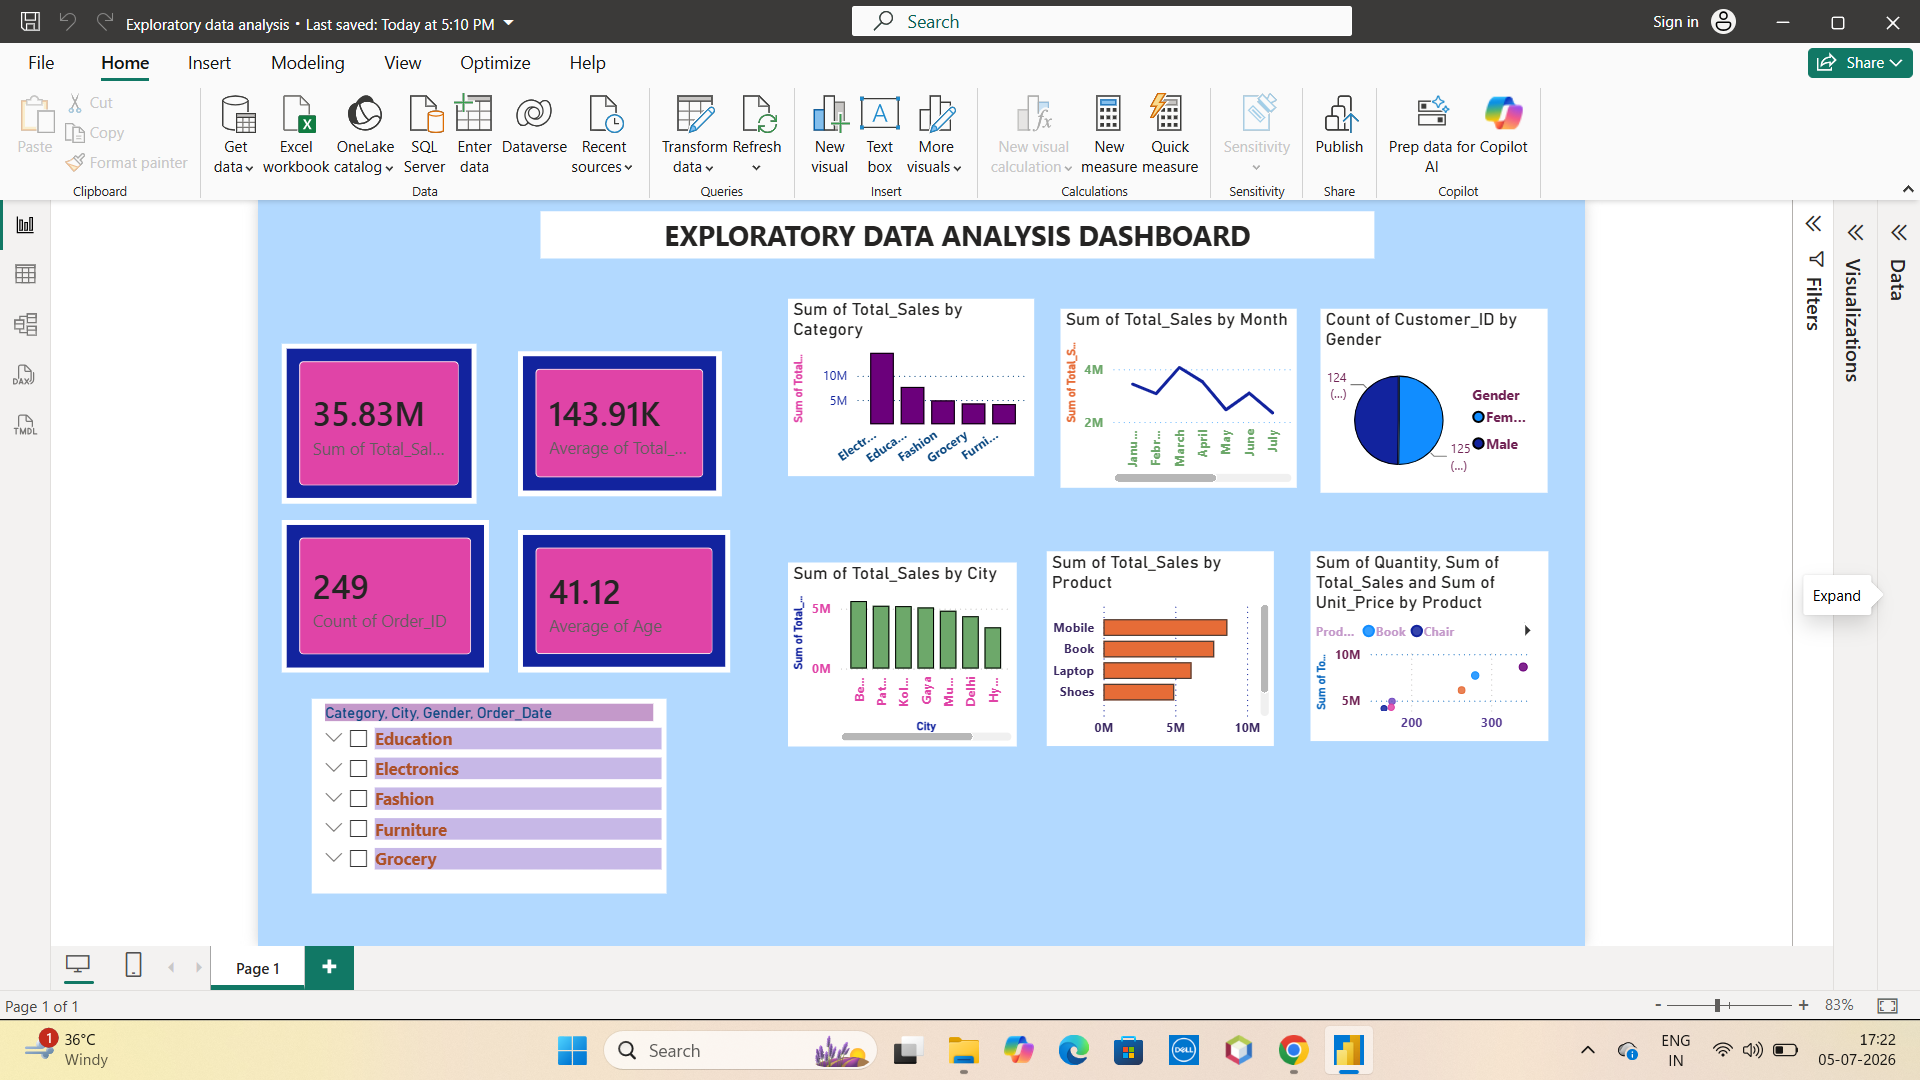

Layout of this report page (visuals, bound fields, positions):
{"tool":"powerbi","page":{"name":"Page 1","canvas":[1280,720],"ordinal":0},"visuals":[{"type":"cardVisual","fields":{"Data":["Sum(Sales_Dataset.Total_Sales)"]},"box":[106.4,102.7,183.4,150.4],"z":0},{"type":"cardVisual","fields":{"Data":["Sales_Dataset.Total orders"]},"box":[371.7,102.7,204.2,159],"z":1000},{"type":"cardVisual","fields":{"Data":["Sales_Dataset.average sales"]},"box":[676.2,102.7,206.7,159],"z":2000},{"type":"cardVisual","fields":{"Data":["Sales_Dataset.total quantity"]},"box":[975.6,100.2,205.8,150.9],"z":3000},{"type":"clusteredColumnChart","fields":{"Category":["Sales_Dataset.Category"],"Y":["Sum(Sales_Dataset.Total_Sales)"]},"box":[87.8,502.2,203.1,185.2],"z":4000},{"type":"barChart","fields":{"Category":["Sales_Dataset.City"],"Y":["Sum(Sales_Dataset.Total_Sales)"]},"box":[371.9,502.2,223.7,185.2],"z":5000},{"type":"lineChart","fields":{"Category":["Sales_Dataset.Order_Date.Variation.Date Hierarchy.Month"],"Y":["Sum(Sales_Dataset.Total_Sales)"]},"box":[676.5,502.2,229.2,185.2],"z":6000},{"type":"pieChart","fields":{"Category":["Sales_Dataset.Gender"],"Y":["Sum(Sales_Dataset.Total_Sales)"]},"box":[975.6,502.2,205.8,185.2],"z":7000},{"type":"slicer","fields":{"Values":["Sales_Dataset.Category"]},"box":[148.2,286.8,282.7,171.5],"z":8000},{"type":"slicer","fields":{"Values":["Sales_Dataset.City"]},"box":[484.4,286.8,307.4,171.5],"z":9000},{"type":"slicer","fields":{"Values":["Sales_Dataset.Order_Date"]},"box":[845.3,286.8,284,171.5],"z":10000},{"type":"textbox","box":[241.5,19.2,957.8,61.7],"z":11000}]}

Visuals, with their boxes on the page's 1280x720 design canvas (x1, y1, x2, y2). These are canvas units, not pixel positions in the 1920x1080 screenshot, which may show the page scaled, cropped or inside an application window:
cardVisual - Sum(Sales_Dataset.Total_Sales): BBox(106, 103, 290, 253)
cardVisual - Sales_Dataset.Total orders: BBox(372, 103, 576, 262)
cardVisual - Sales_Dataset.average sales: BBox(676, 103, 883, 262)
cardVisual - Sales_Dataset.total quantity: BBox(976, 100, 1181, 251)
clusteredColumnChart - Sales_Dataset.Category x Sum(Sales_Dataset.Total_Sales): BBox(88, 502, 291, 687)
barChart - Sales_Dataset.City x Sum(Sales_Dataset.Total_Sales): BBox(372, 502, 596, 687)
lineChart - Sales_Dataset.Order_Date.Variation.Date Hierarchy.Month x Sum(Sales_Dataset.Total_Sales): BBox(676, 502, 906, 687)
pieChart - Sales_Dataset.Gender x Sum(Sales_Dataset.Total_Sales): BBox(976, 502, 1181, 687)
slicer - Sales_Dataset.Category: BBox(148, 287, 431, 458)
slicer - Sales_Dataset.City: BBox(484, 287, 792, 458)
slicer - Sales_Dataset.Order_Date: BBox(845, 287, 1129, 458)
textbox: BBox(242, 19, 1199, 81)
